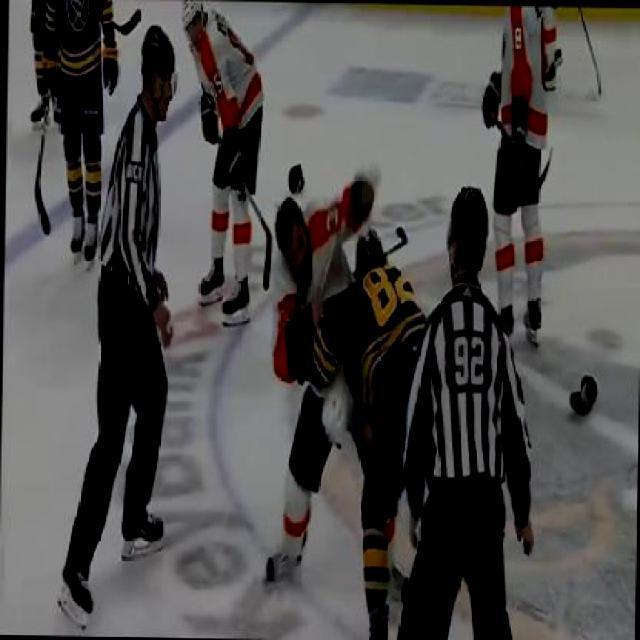fight: (264, 176, 444, 638)
non-fight: (88, 19, 178, 564), (170, 0, 278, 340)
